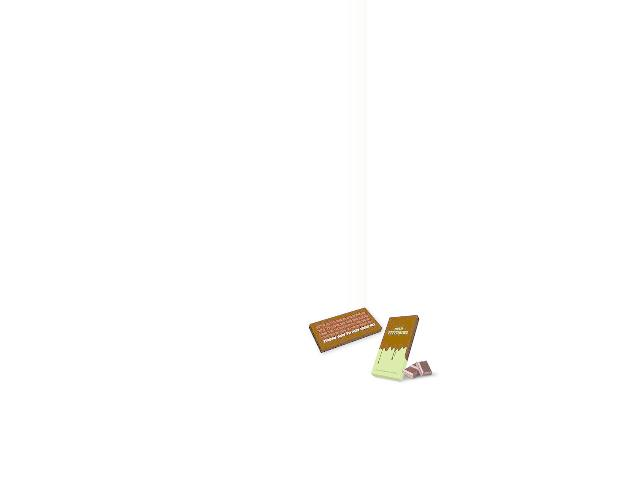chocolate: (374, 313, 414, 383)
